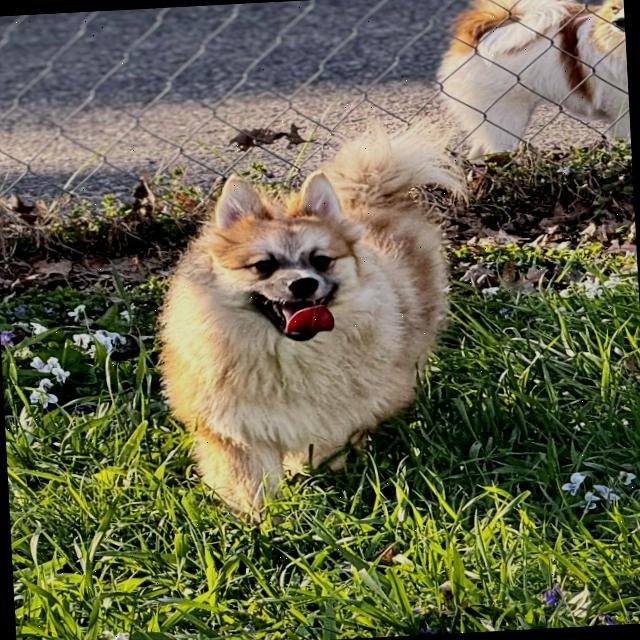pomeranian_dog: (152, 160, 400, 384)
